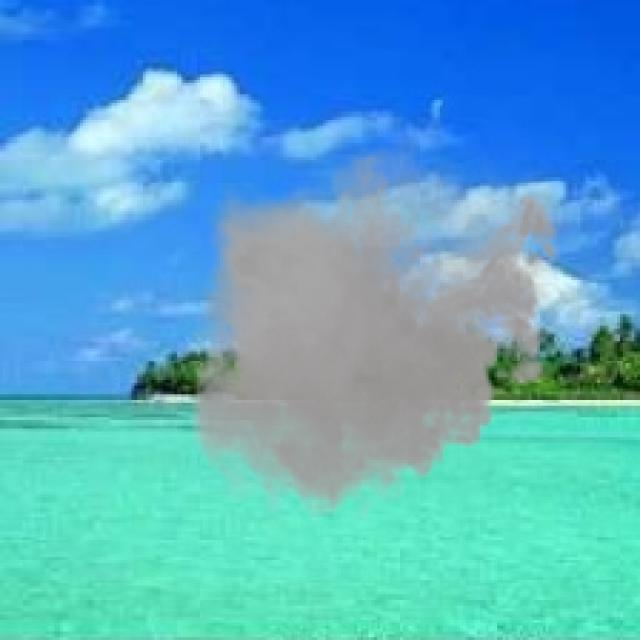smoke: (177, 128, 572, 532)
